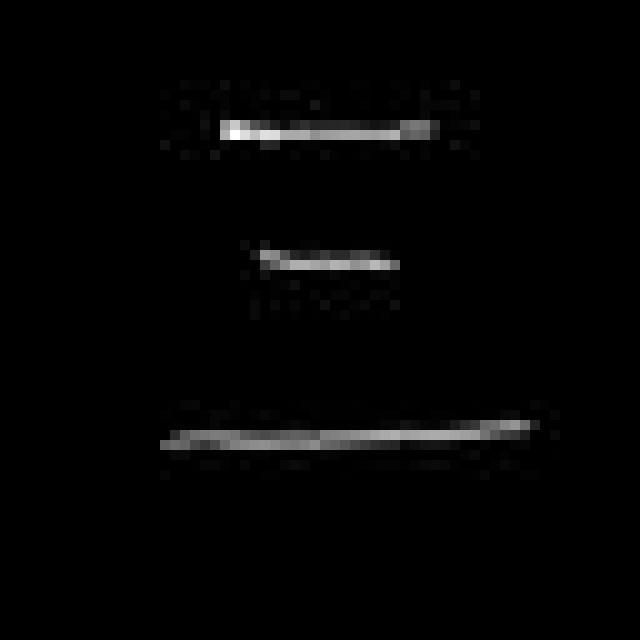3 -three-: (147, 106, 551, 480)
